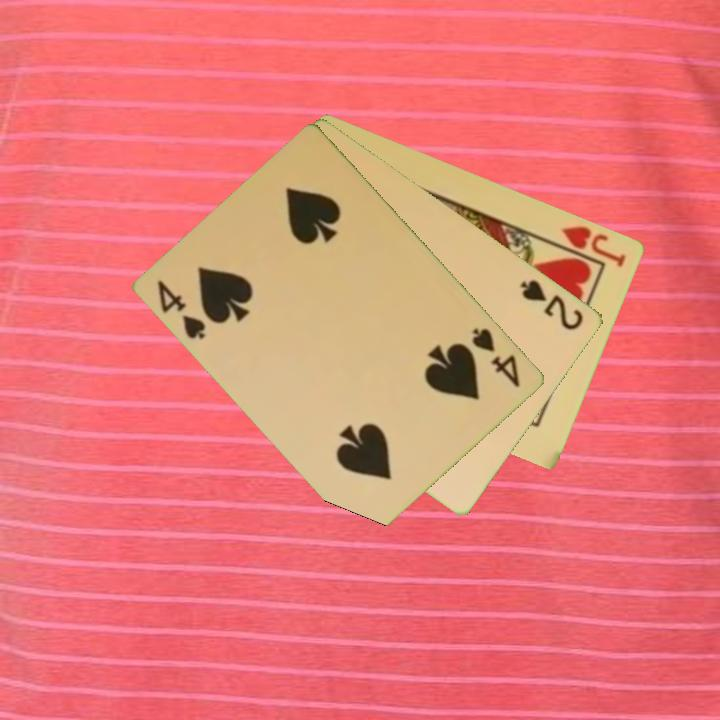2s: (517, 275, 587, 333)
4s: (469, 324, 524, 390), (154, 276, 209, 342)
Jh: (558, 222, 630, 270)
